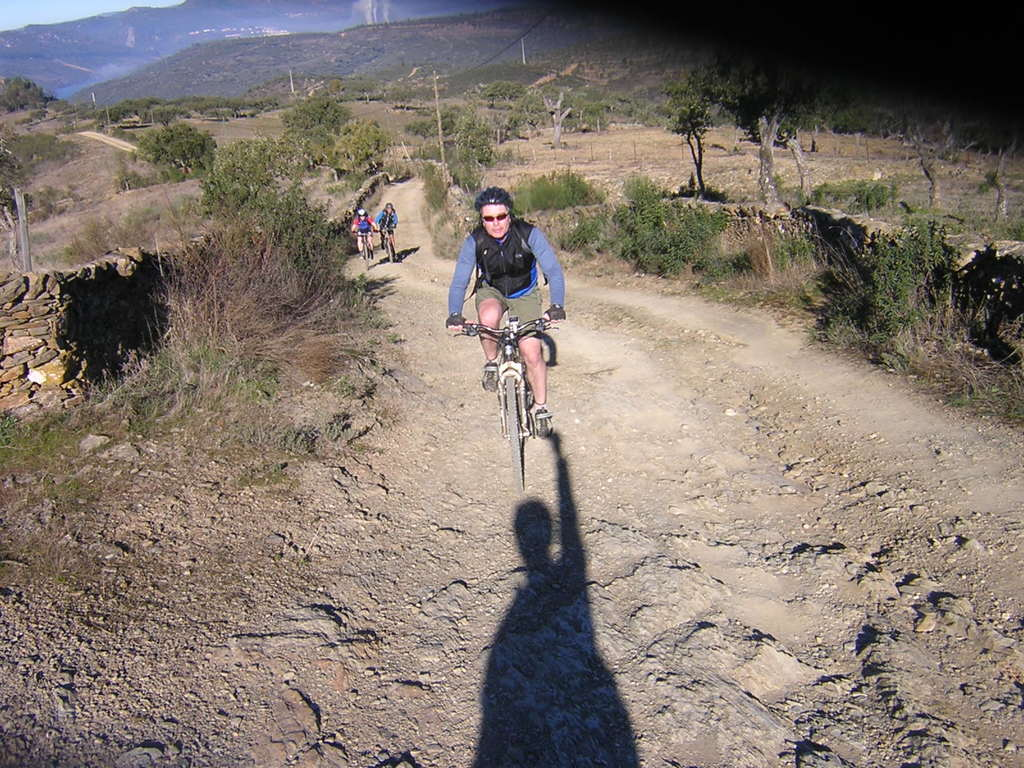Bike_toward: (438, 301, 582, 508)
